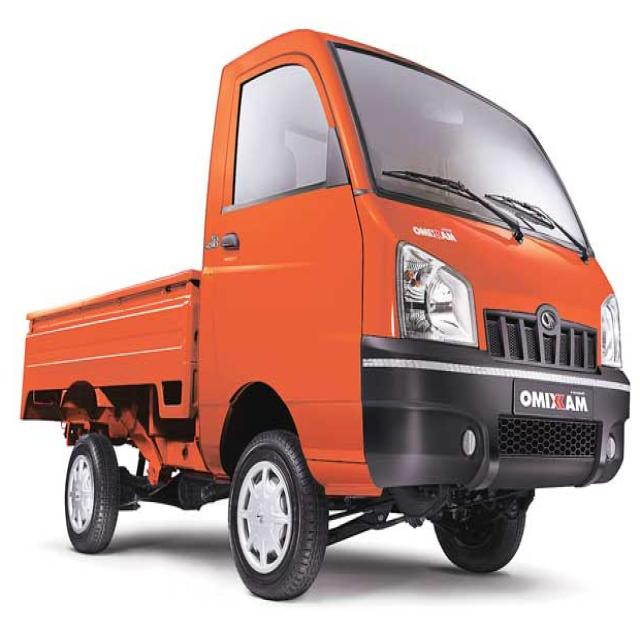truck: (21, 30, 630, 599)
